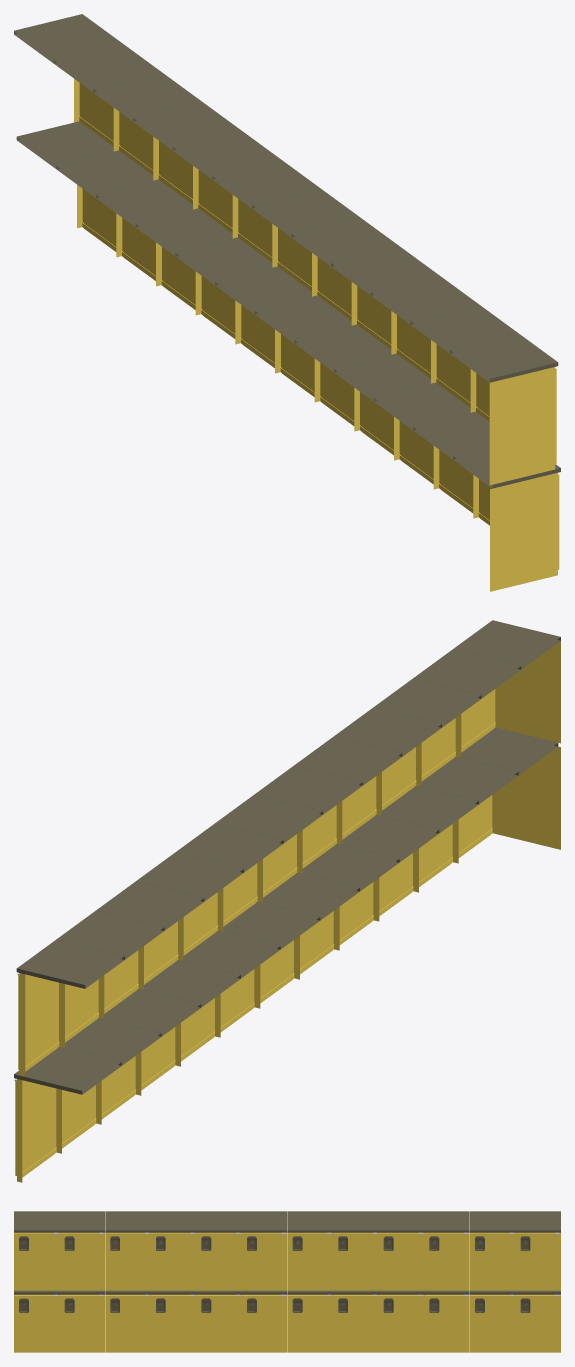
Rendered from etc4.fbx.
The picture shows the model from 3 angles, top to bottom: view 1: azimuth 30°, elevation 25°; view 2: azimuth 150°, elevation 25°; view 3: azimuth 270°, elevation 25°; orthographic projection. The views are drawn at different scales.
Parts seen in each view (by area): view 1: Plane092; view 2: Plane092; view 3: Plane092.
Boxes of the visible parts, <box> form: Plane092: <box>14,14,560,591</box>; Plane092: <box>14,620,560,1182</box>; Plane092: <box>14,1211,560,1352</box>.
Bounding box in the file's own units: 0.4544 × 1.26 × 5.09.
